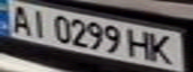0: (48, 12, 72, 44)
2: (66, 16, 87, 48)
9: (103, 24, 127, 55), (84, 20, 106, 52)
A: (3, 2, 36, 35)
H: (124, 27, 154, 61)
I: (24, 8, 51, 38)
K: (145, 30, 181, 66)
